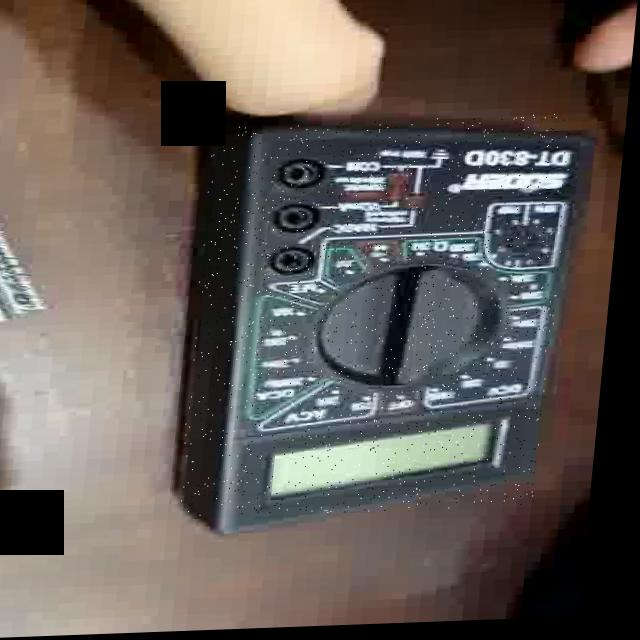multimeter: (187, 118, 577, 521)
